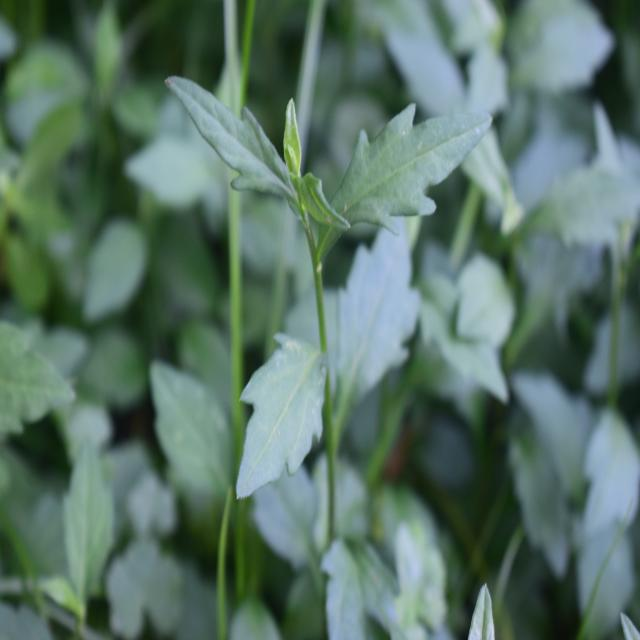Indian aster: (158, 58, 455, 560)
